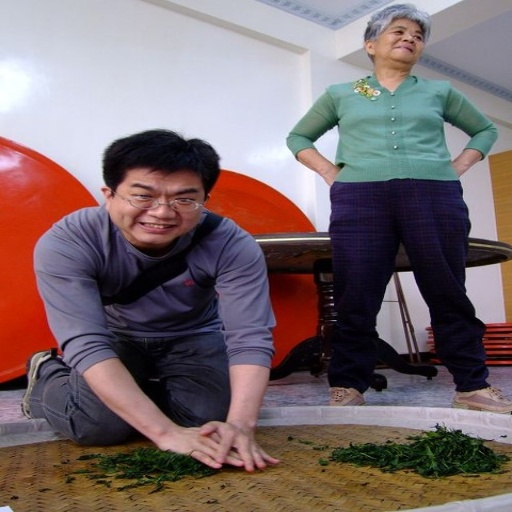hand: (156, 428, 243, 471), (323, 166, 339, 187), (451, 161, 467, 177)
